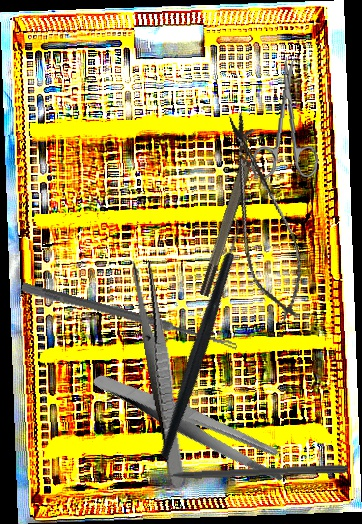Chopper: (83, 209, 314, 461)
Dressing Forceps: (90, 328, 296, 520), (129, 257, 192, 490)
Fixation Ring: (189, 126, 268, 299)
Iris Scissors: (250, 55, 326, 182)
Micro Scissor: (206, 104, 318, 330)
Pusher: (140, 462, 349, 481)
Surgical Spoon: (20, 282, 239, 351)
